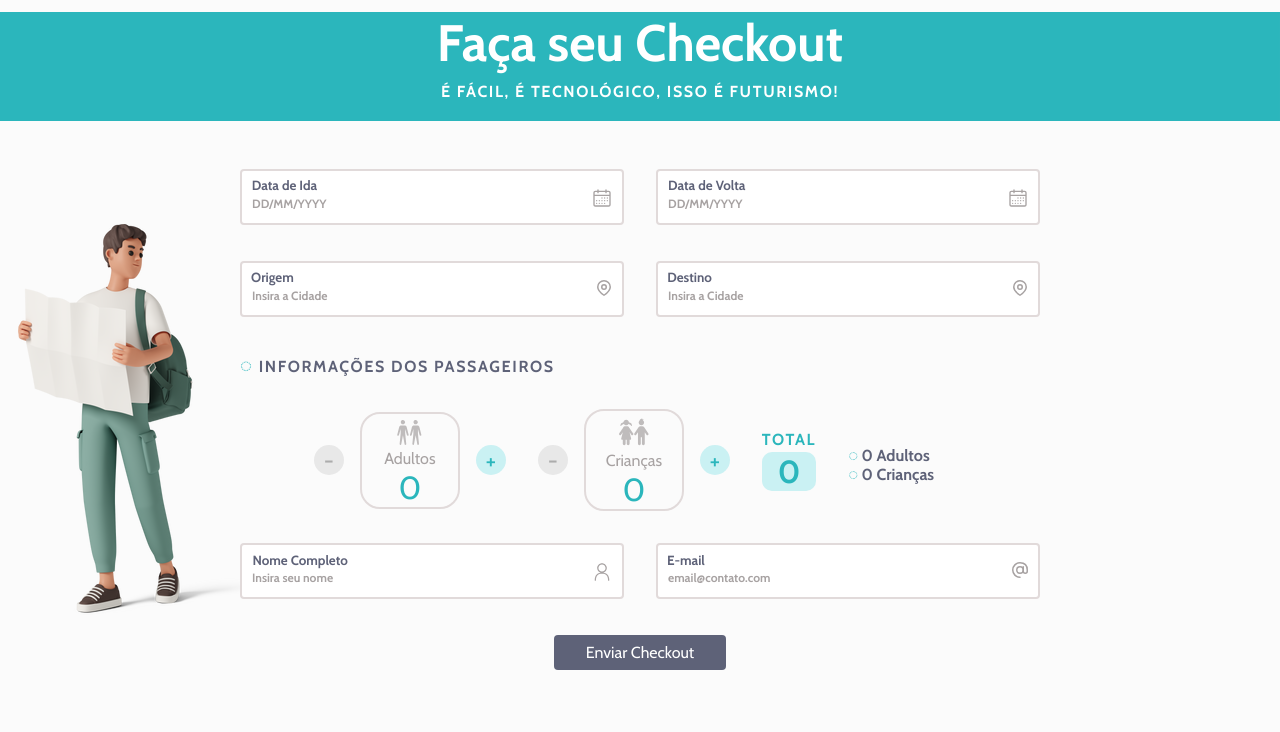
Test: <Count /> › should show error message when no adults are selected
Click the button "Enviar Checkout" at (640, 653), box [554,635,726,670]
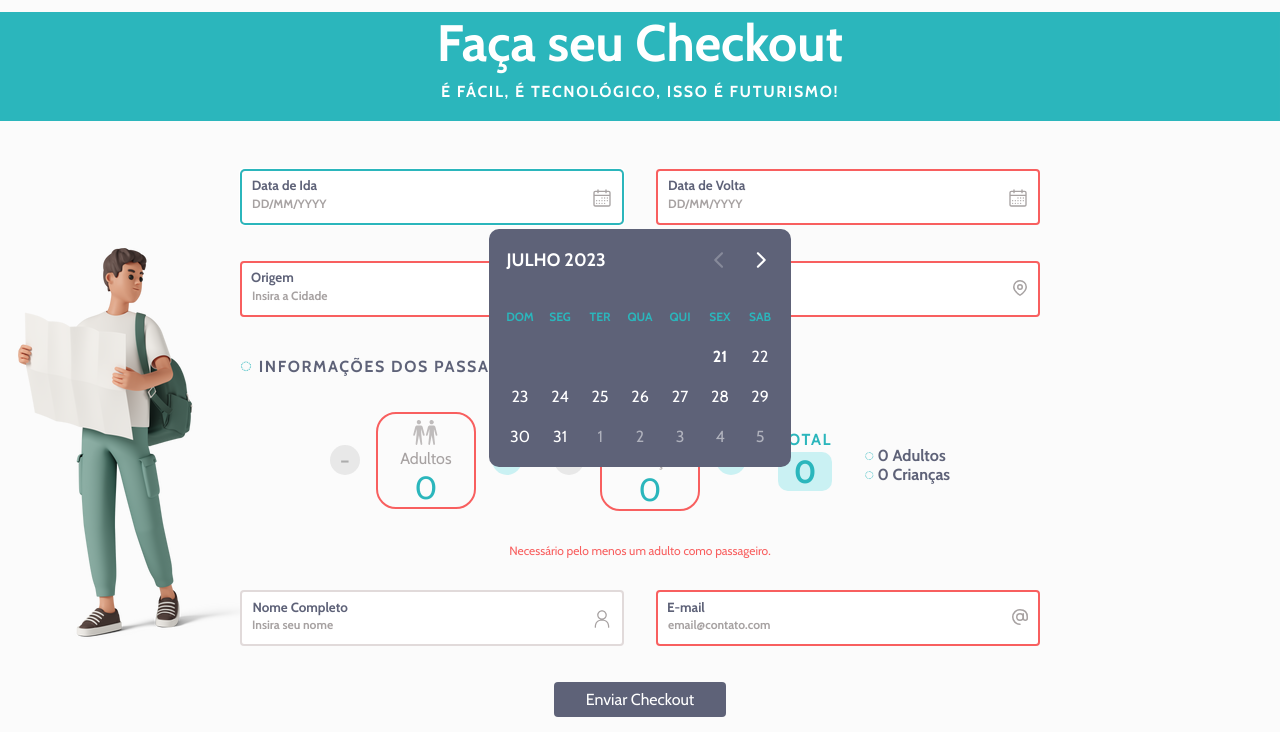
Expected: the text "Necessário pelo menos um adulto como passageiro." is shown, [509,543,771,558]
